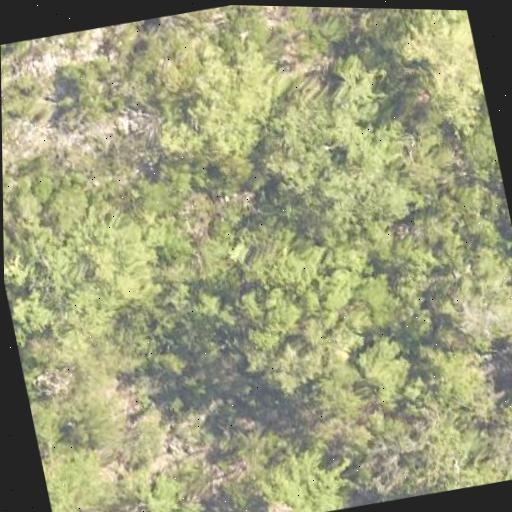tree-top: (222, 219, 441, 443), (2, 160, 190, 360), (242, 61, 428, 252), (140, 20, 304, 184), (391, 9, 491, 141), (25, 361, 130, 465), (350, 409, 459, 507), (247, 430, 355, 512), (415, 334, 510, 427), (429, 257, 512, 349), (37, 428, 124, 512), (45, 44, 124, 130), (135, 487, 264, 512), (496, 331, 512, 420), (1, 42, 22, 91)
